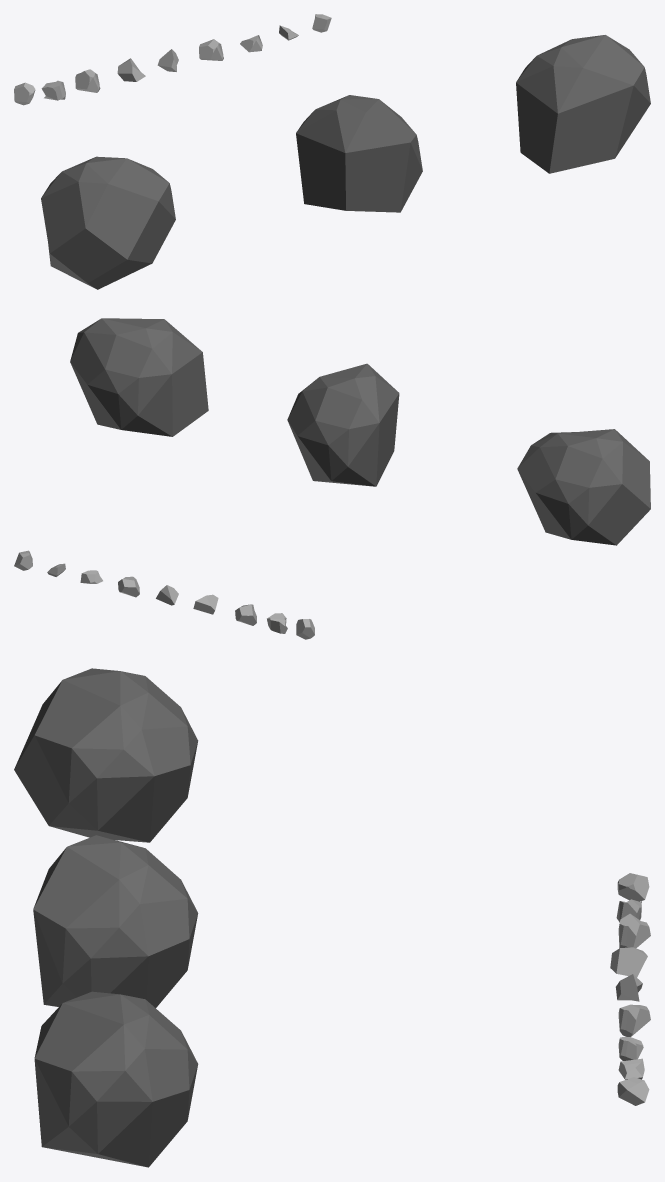
Rendered from SomeBasicRocks.fbx.
3 renders of one model, top to bottom at view 1: azimuth 30°, elevation 25°; view 2: azimuth 150°, elevation 25°; view 3: azimuth 270°, elevation 25°, orthographic. The views are drawn at different scales.
Visible parts, largest first — view 1: Rock20.004, Rock18.004, Rock19.004, Rock3.002, Rock6.002, Rock4.002; view 2: Rock20.004, Rock18.004, Rock19.004; view 3: Rock18.004, Rock20.004, Rock19.004, Rock4.002, Rock3.002, Rock6.002, Rock1.002, Rock9.002.
Part boxes in pixels (x1=…): Rock20.004: x1=516, y1=35, x2=650, y2=173; Rock18.004: x1=41, y1=156, x2=175, y2=289; Rock19.004: x1=296, y1=95, x2=422, y2=212; Rock3.002: x1=75, y1=69, x2=100, y2=92; Rock6.002: x1=199, y1=39, x2=223, y2=60; Rock4.002: x1=117, y1=58, x2=145, y2=81; Rock20.004: x1=70, y1=318, x2=208, y2=436; Rock18.004: x1=517, y1=429, x2=650, y2=545; Rock19.004: x1=287, y1=363, x2=399, y2=486; Rock18.004: x1=14, y1=668, x2=198, y2=842; Rock20.004: x1=34, y1=991, x2=198, y2=1167; Rock19.004: x1=33, y1=835, x2=198, y2=1007; Rock4.002: x1=610, y1=947, x2=647, y2=977; Rock3.002: x1=618, y1=913, x2=650, y2=948; Rock6.002: x1=618, y1=1004, x2=650, y2=1036; Rock1.002: x1=617, y1=873, x2=649, y2=901; Rock9.002: x1=617, y1=1077, x2=649, y2=1105.
Size of the model in its own units: 4020 by 774 by 2656.
